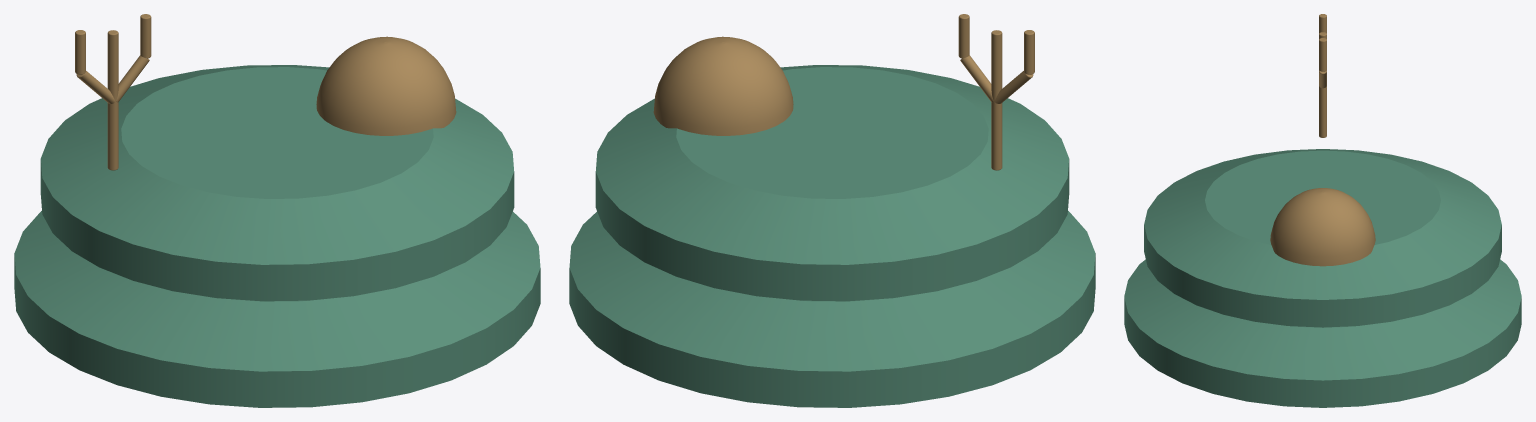
3 renders of one model, left to right at view 1: azimuth 30°, elevation 25°; view 2: azimuth 150°, elevation 25°; view 3: azimuth 270°, elevation 25°, orthographic. The views are drawn at different scales.
Parts seen in each view (by area): view 1: Terraced oval hull.001, Terraced oval hull, Saucer roof auxiliary pod, Aerial stem, Aerial fork.001, Aerial fork tine.001, Aerial fork tine; view 2: Terraced oval hull.001, Terraced oval hull, Saucer roof auxiliary pod, Aerial stem, Aerial fork.001, Aerial fork tine.001, Aerial fork tine; view 3: Terraced oval hull.001, Terraced oval hull, Saucer roof auxiliary pod, Aerial stem.
Part boxes in pixels (left/top/right/bottom): Terraced oval hull.001: left=40, top=65, right=514, bottom=301; Terraced oval hull: left=14, top=211, right=540, bottom=407; Saucer roof auxiliary pod: left=316, top=36, right=456, bottom=135; Aerial stem: left=107, top=30, right=118, bottom=170; Aerial fork.001: left=116, top=55, right=149, bottom=102; Aerial fork tine.001: left=140, top=14, right=151, bottom=58; Aerial fork tine: left=75, top=30, right=85, bottom=74; Terraced oval hull.001: left=595, top=65, right=1069, bottom=301; Terraced oval hull: left=569, top=211, right=1095, bottom=407; Saucer roof auxiliary pod: left=653, top=36, right=793, bottom=135; Aerial stem: left=991, top=30, right=1002, bottom=170; Aerial fork.001: left=960, top=55, right=993, bottom=102; Aerial fork tine.001: left=958, top=14, right=969, bottom=58; Aerial fork tine: left=1024, top=30, right=1034, bottom=74; Terraced oval hull.001: left=1144, top=149, right=1501, bottom=327; Terraced oval hull: left=1124, top=259, right=1521, bottom=407; Saucer roof auxiliary pod: left=1270, top=188, right=1375, bottom=266; Aerial stem: left=1319, top=32, right=1326, bottom=137.
Bounding box in the file's own units: 2.1 × 1.48 × 2.1.
